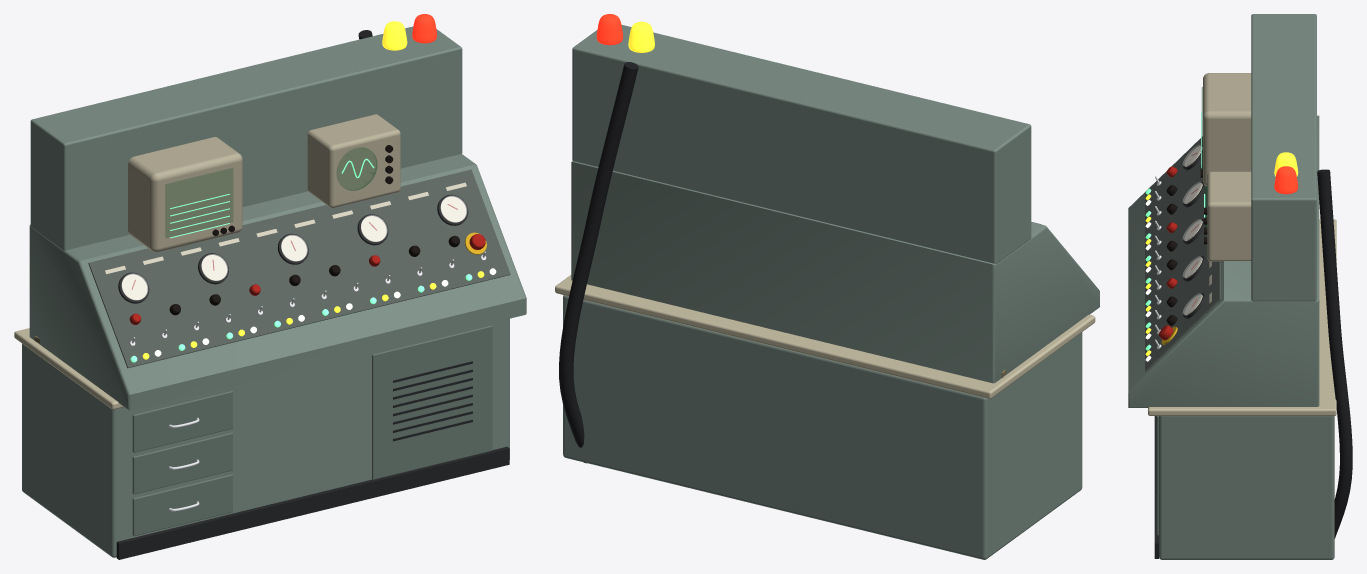
The model's file is control_console.glb.
The picture shows the model from 3 angles, left to right: view 1: azimuth 30°, elevation 25°; view 2: azimuth 150°, elevation 25°; view 3: azimuth 270°, elevation 25°; orthographic projection. The views are drawn at different scales.
Size of the model in its own units: 2.06 by 1.94 by 1.02.
Materials: 23 (1 with a texture image).
